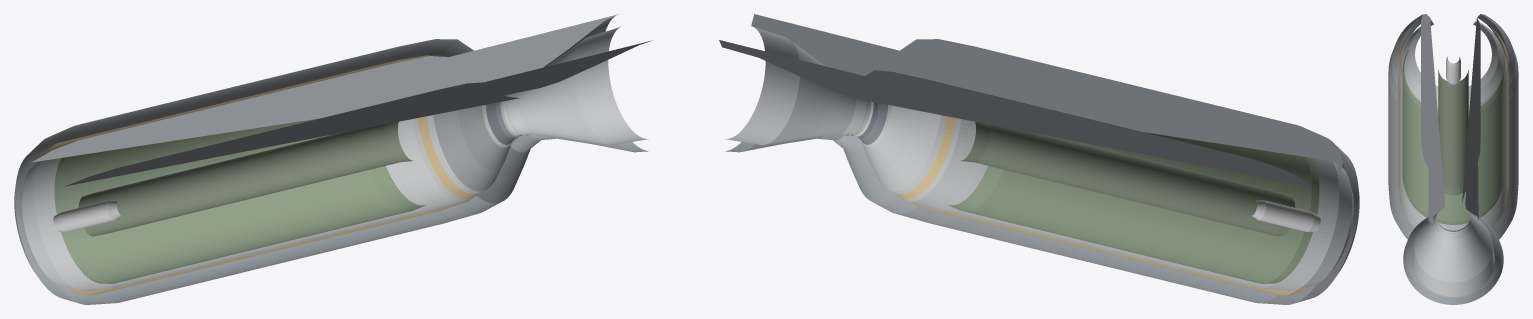
File: solid_rocket_chamber_nozzle_cutaway.glb
3 renders of one model, left to right at view 1: azimuth 30°, elevation 25°; view 2: azimuth 150°, elevation 25°; view 3: azimuth 270°, elevation 25°, orthographic. The views are drawn at different scales.
Visible parts, largest first — view 1: Solid propellant grain outer surface, Inner wall and nozzle throat surface, Cut face B, Motor case and nozzle outer wall, Propellant central port wall, Cut face A, Thermal liner, Igniter tube, Throat insert; view 2: Inner wall and nozzle throat surface, Cut face A, Solid propellant grain outer surface, Propellant central port wall, Cut face B, Motor case and nozzle outer wall, Thermal liner, Igniter tube, Throat insert; view 3: Inner wall and nozzle throat surface, Motor case and nozzle outer wall, Solid propellant grain outer surface, Propellant central port wall, Cut face A, Cut face B, Thermal liner, Igniter tube.
Part boxes in pixels (box(x1,y1,x2,y2)): Solid propellant grain outer surface: box(54, 118, 425, 283); Inner wall and nozzle throat surface: box(20, 26, 648, 291); Cut face B: box(31, 14, 618, 162); Motor case and nozzle outer wall: box(14, 16, 648, 304); Propellant central port wall: box(78, 122, 413, 236); Cut face A: box(64, 40, 652, 186); Thermal liner: box(35, 55, 479, 295); Igniter tube: box(53, 200, 122, 231); Throat insert: box(486, 96, 528, 144); Inner wall and nozzle throat surface: box(725, 26, 1353, 291); Cut face A: box(751, 14, 1343, 173); Solid propellant grain outer surface: box(948, 132, 1319, 283); Propellant central port wall: box(960, 122, 1295, 236); Cut face B: box(719, 40, 1312, 192); Motor case and nozzle outer wall: box(725, 126, 1359, 304); Thermal liner: box(894, 116, 1308, 295); Igniter tube: box(1251, 200, 1320, 231); Throat insert: box(845, 102, 887, 144); Inner wall and nozzle throat surface: box(1399, 21, 1507, 296); Motor case and nozzle outer wall: box(1388, 14, 1518, 304); Solid propellant grain outer surface: box(1402, 50, 1504, 224); Propellant central port wall: box(1438, 69, 1468, 195); Cut face A: box(1421, 14, 1444, 226); Cut face B: box(1462, 18, 1480, 219); Thermal liner: box(1398, 28, 1508, 222); Igniter tube: box(1446, 57, 1460, 84).
Size of the model in its own units: 9.85 by 2.46 by 2.64.
